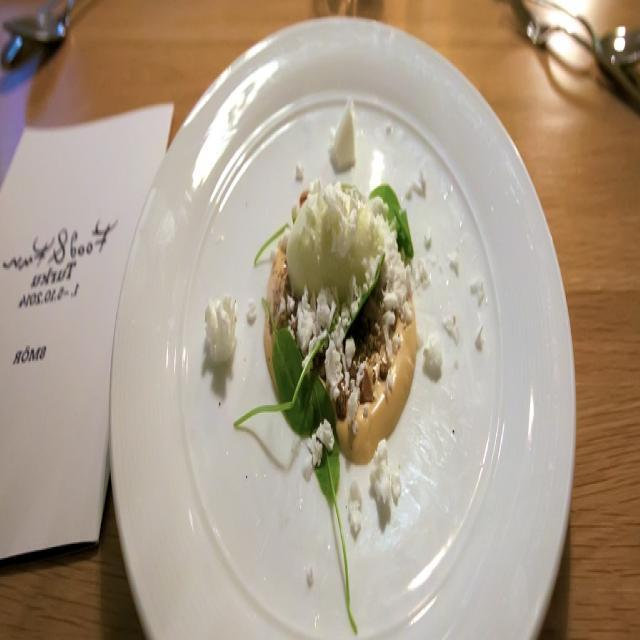ceramic plate: (107, 25, 572, 640)
